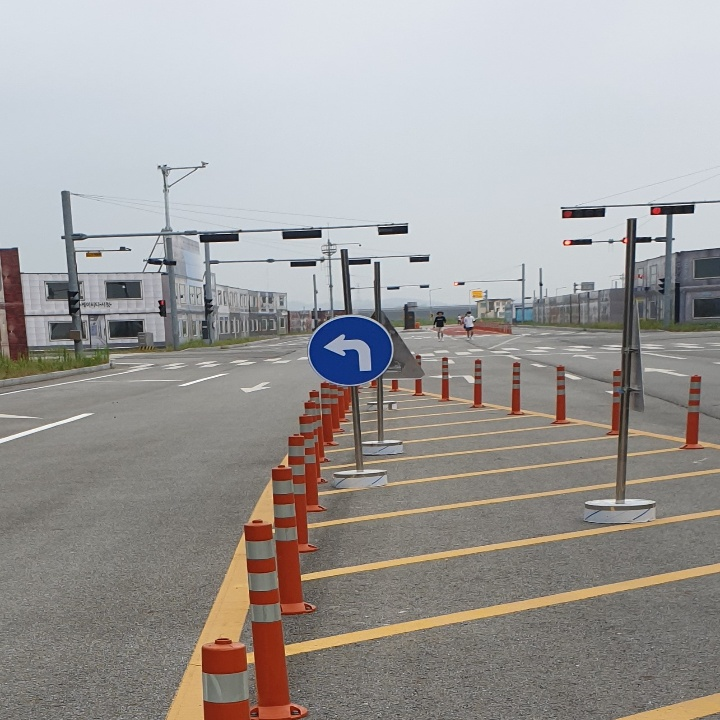left: (315, 324, 381, 381)
